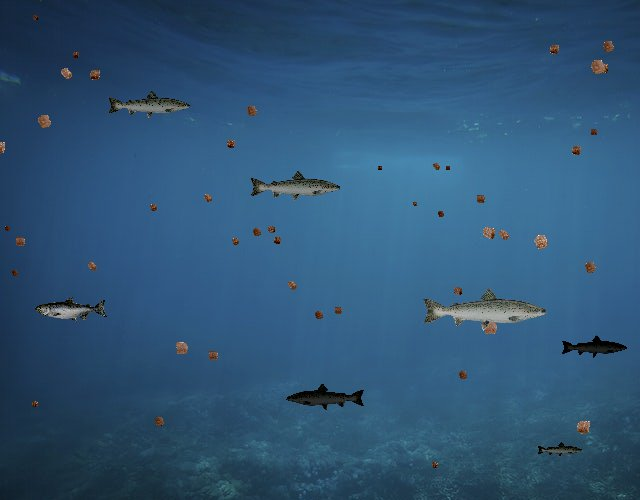Fish: (420, 286, 549, 332), (249, 170, 343, 204), (106, 89, 192, 120), (285, 383, 366, 412), (36, 297, 109, 323), (560, 335, 628, 359), (537, 441, 584, 458)
Pellet: (569, 413, 597, 441), (475, 220, 502, 247), (54, 61, 79, 86), (578, 256, 602, 280), (428, 458, 442, 472), (28, 397, 42, 411), (29, 11, 41, 23)
